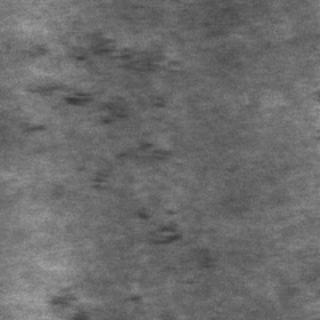rolled pit: (90, 138, 186, 245), (19, 71, 161, 141), (54, 23, 174, 66), (47, 286, 91, 318)
